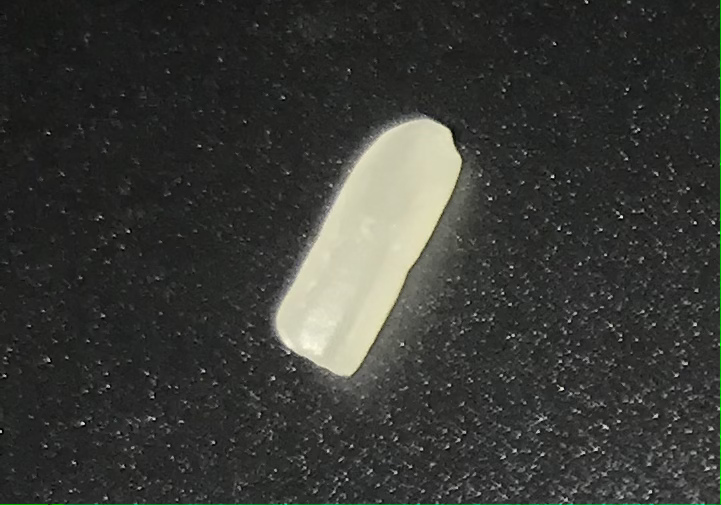Gao Thom My: (269, 112, 473, 370)
